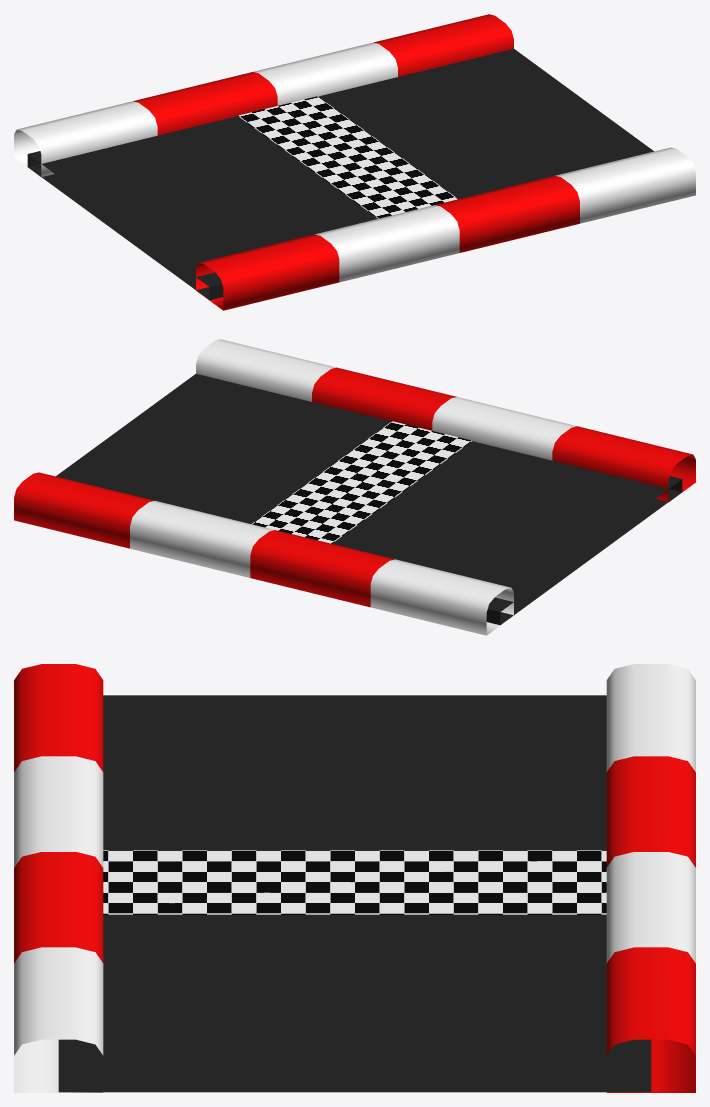
Rendered from BeginTrack01.obj.
3 views of the same model, one above another, from view 1: azimuth 30°, elevation 25°; view 2: azimuth 150°, elevation 25°; view 3: azimuth 270°, elevation 25° (orthographic). The views are drawn at different scales.
Parts seen in each view (by area): view 1: BeginTrack01_Cube.001; view 2: BeginTrack01_Cube.001; view 3: BeginTrack01_Cube.001.
Part boxes in pixels (x1,y1,x2,y2): BeginTrack01_Cube.001: (14,14,695,310); BeginTrack01_Cube.001: (14,339,695,635); BeginTrack01_Cube.001: (14,664,695,1092).
Bounding box in the file's own units: 27 × 1.78 × 20.72.
